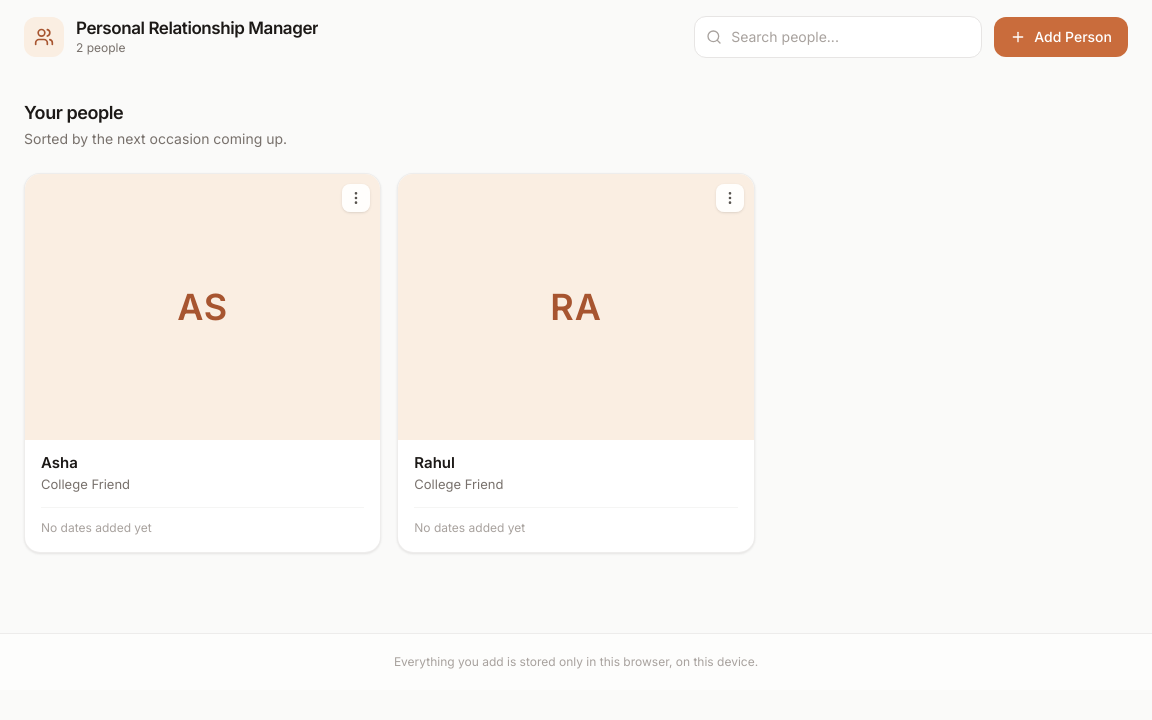
HomePage › filters people by name as the user types
expect the heading "Rahul" is shown: met, box [414,454,455,472]
expect the heading "Asha" is shown: met, box [41,454,78,472]
Step 1. Type "ash" into the search field labelled "Search people..." → (838, 37), box [694,16,982,58]
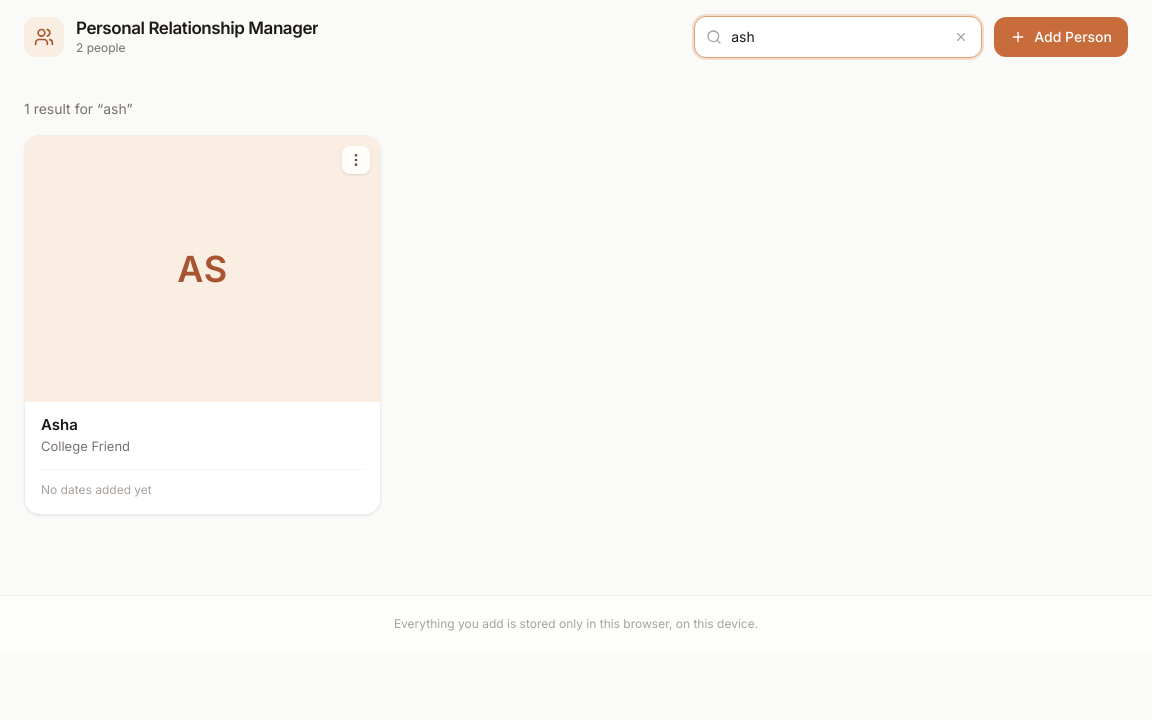
expect the heading "Asha" is shown: met, box [41,416,78,434]
expect the link "Rahul" is gone: met
